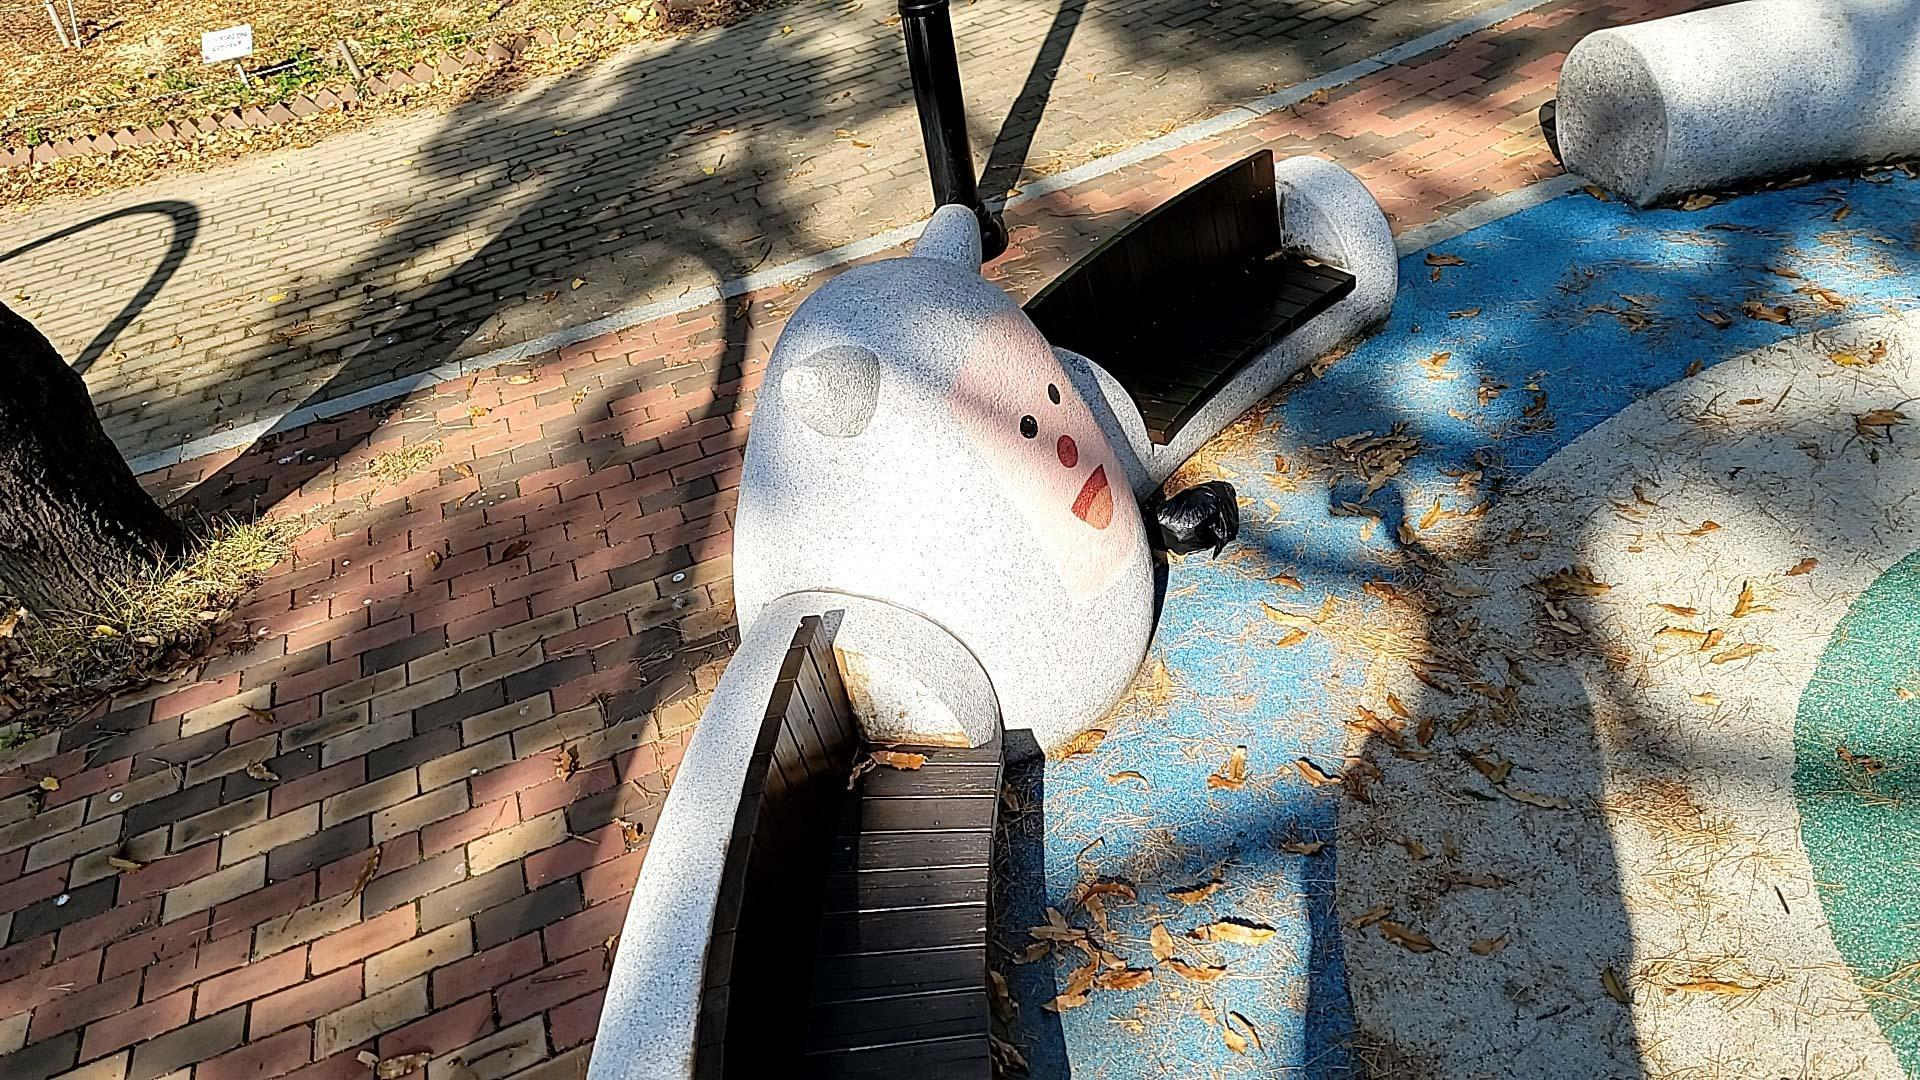black_bag: (1143, 475, 1247, 563)
